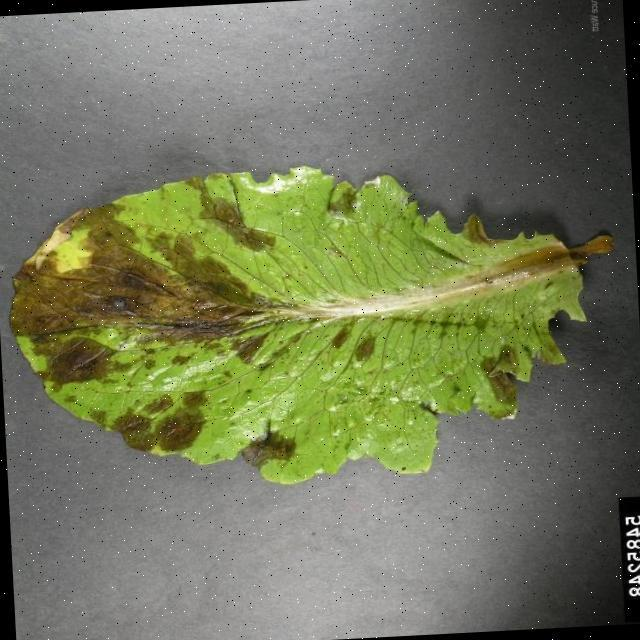Septoria_Blight: (14, 170, 577, 456)
